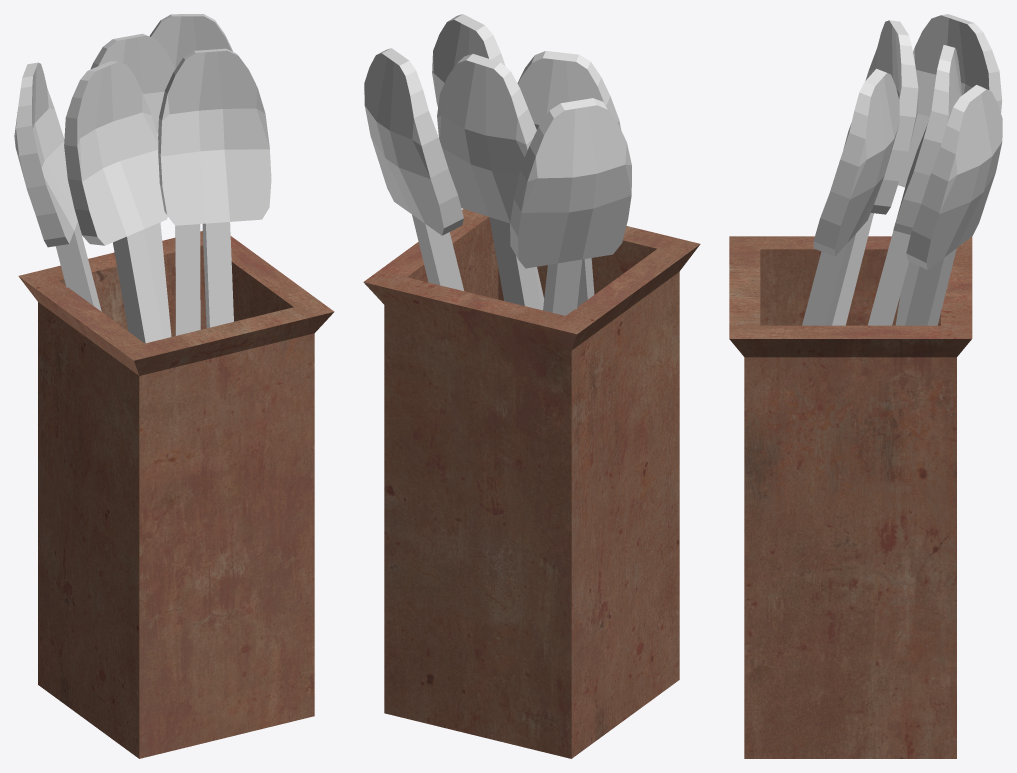
Rendered from Wadah.fbx.
The picture shows the model from 3 angles, left to right: view 1: azimuth 30°, elevation 25°; view 2: azimuth 150°, elevation 25°; view 3: azimuth 270°, elevation 25°; orthographic projection. The views are drawn at different scales.
Visible parts, largest first — view 1: Wadah; view 2: Wadah; view 3: Wadah.
Part boxes in pixels (bbox=[...]): Wadah: bbox=[14, 14, 334, 758]; Wadah: bbox=[363, 14, 700, 758]; Wadah: bbox=[729, 14, 1002, 758].
Size of the model in its own units: 96.7 by 247 by 92.58.
